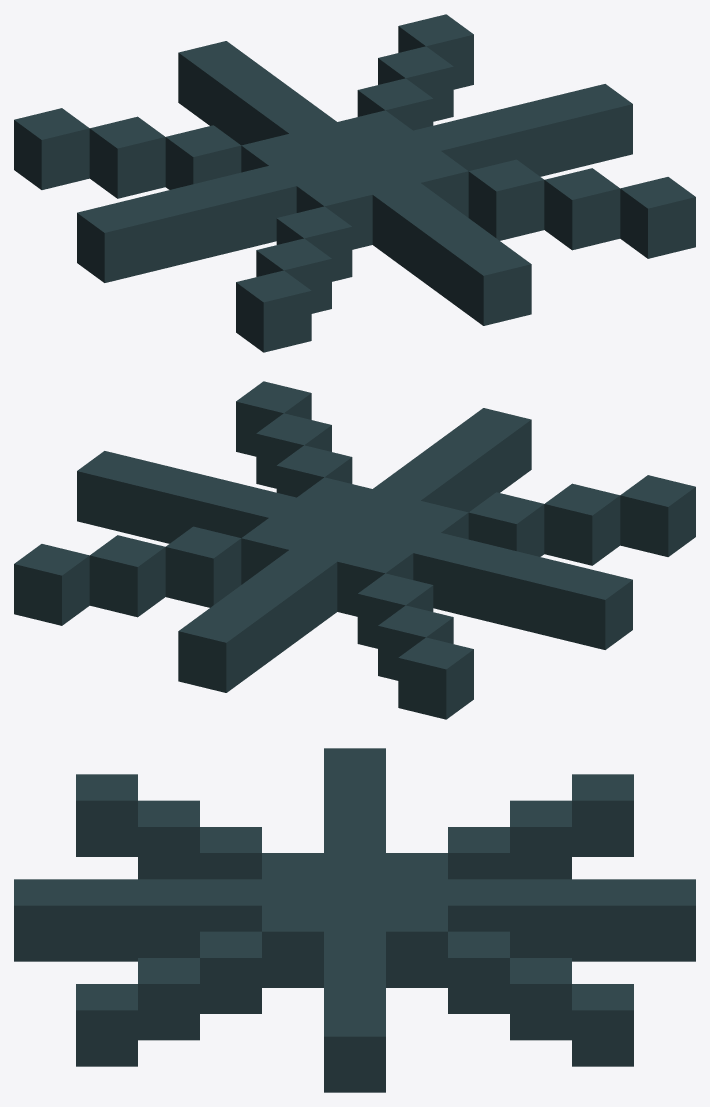
File: heli_rotor.obj
The picture shows the model from 3 angles, top to bottom: view 1: azimuth 30°, elevation 25°; view 2: azimuth 150°, elevation 25°; view 3: azimuth 270°, elevation 25°; orthographic projection. The views are drawn at different scales.
Size of the model in its own units: 1.1 by 0.1 by 1.1.
Materials: 1 (1 with a texture image).
